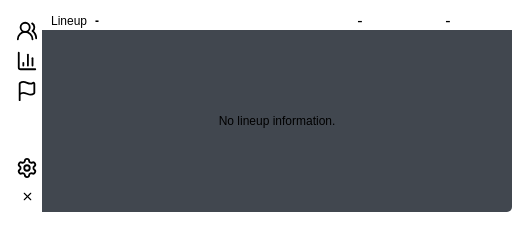
MatchDataOverlays › shows only the Events resource error in the Events tab
What coordinates should you click on to do the following:
click the tab named "Events"
I would click on:
 (27, 91)
Its box is [16,80,38,102].
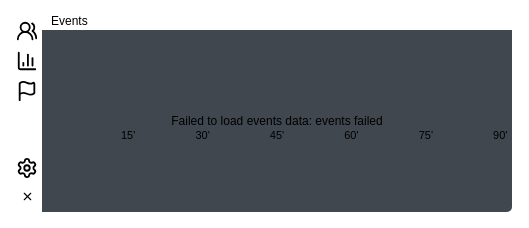
Check: the message reads "Failed to load events data: events failed", box [171,114,383,128]
